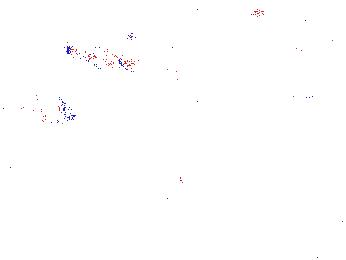X-ray fish: (10, 87, 75, 131), (304, 1, 338, 38)
glassfish: (152, 134, 192, 200), (121, 195, 174, 227)
redtail glassfish: (60, 42, 136, 76), (194, 4, 265, 26), (126, 30, 177, 51)
